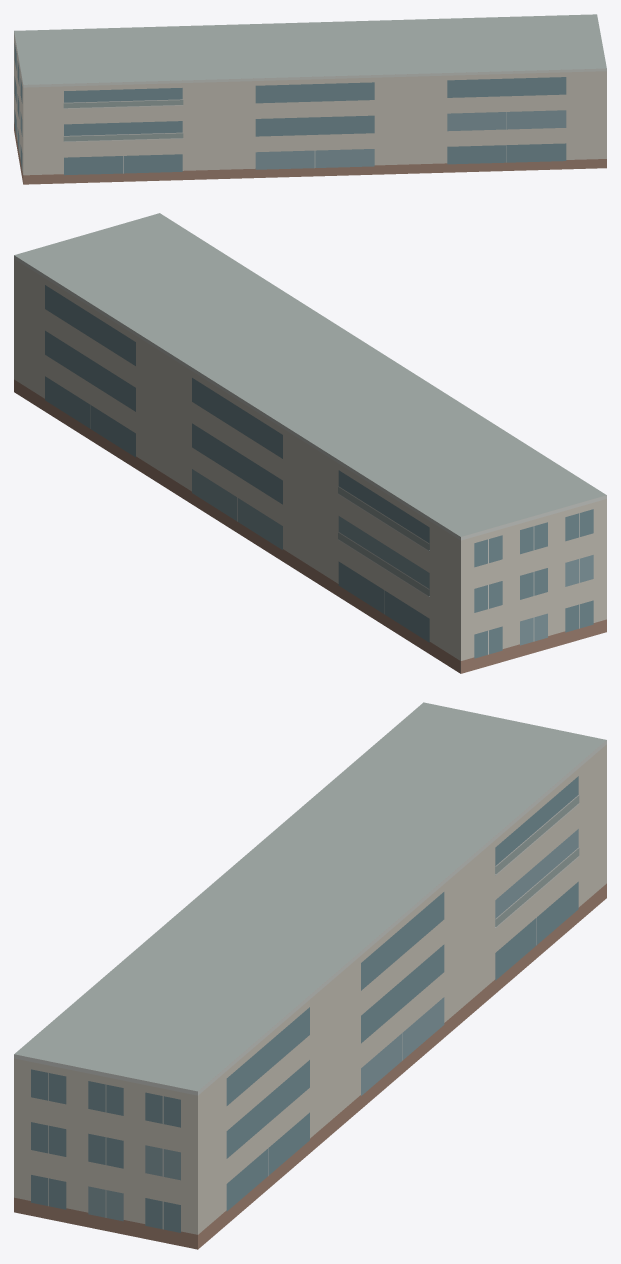
The model's file is survey-upis-33023812.glb.
The picture shows the model from 3 angles, top to bottom: view 1: azimuth 30°, elevation 25°; view 2: azimuth 150°, elevation 25°; view 3: azimuth 270°, elevation 25°; orthographic projection. The views are drawn at different scales.
Parts seen in each view (by area): view 1: survey-upis-33023812.tmp; view 2: survey-upis-33023812.tmp; view 3: survey-upis-33023812.tmp.
Part boxes in pixels (x1=…): survey-upis-33023812.tmp: x1=14, y1=14, x2=606, y2=184; survey-upis-33023812.tmp: x1=14, y1=213, x2=606, y2=673; survey-upis-33023812.tmp: x1=14, y1=702, x2=606, y2=1249.
Bounding box in the file's own units: 48.31 × 9.15 × 31.1.
